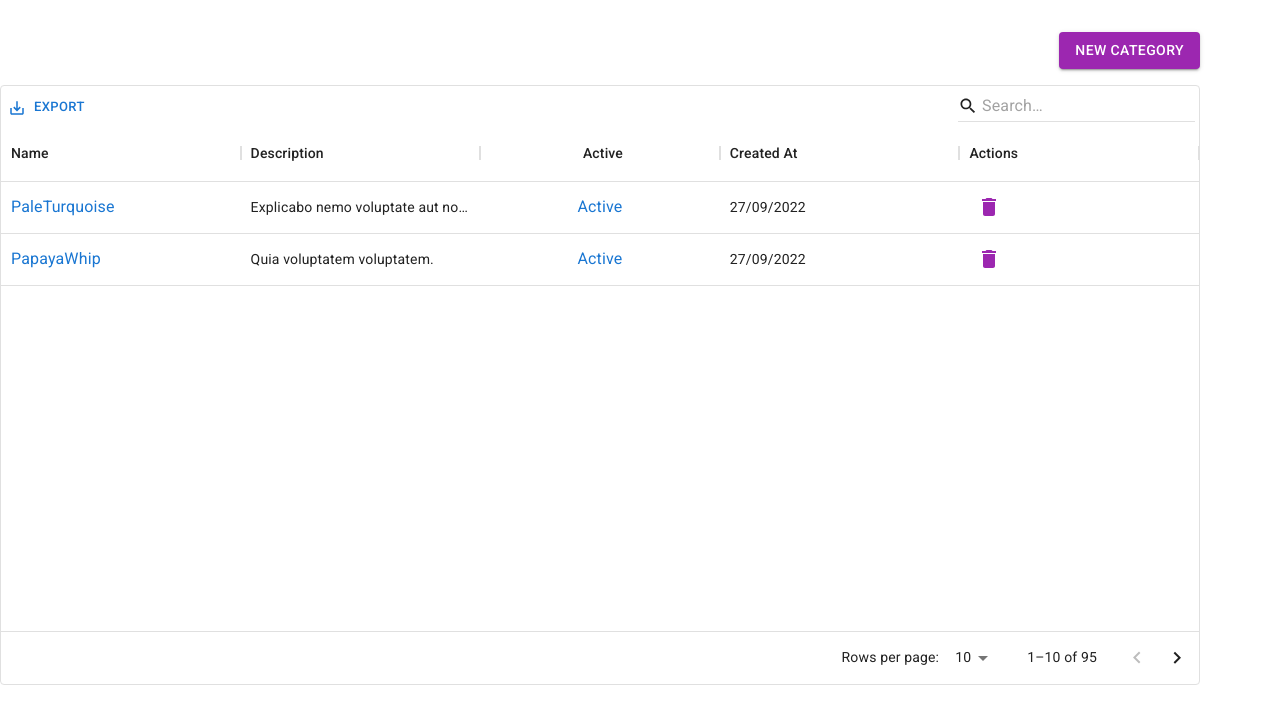
Test: ListCategory › should handle Delete Category success
This screenshot has width=1280, height=720.
Expected: the text "PaleTurquoise" is shown, [11, 195, 115, 219]
Click the button with test id "delete-button" in the row of "PaleTurquoise" at (989, 207), box [969, 187, 1009, 227]
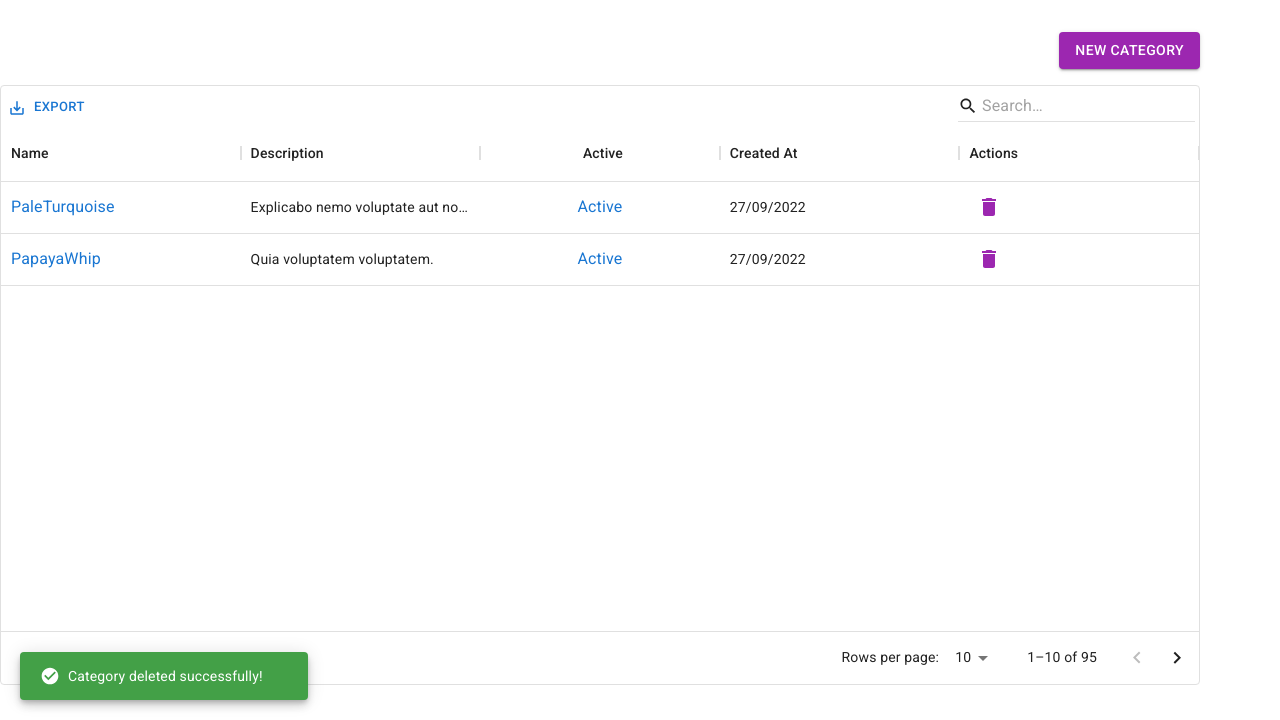
Result: the text "Category deleted successfully!" is shown at [40, 666, 263, 686]
